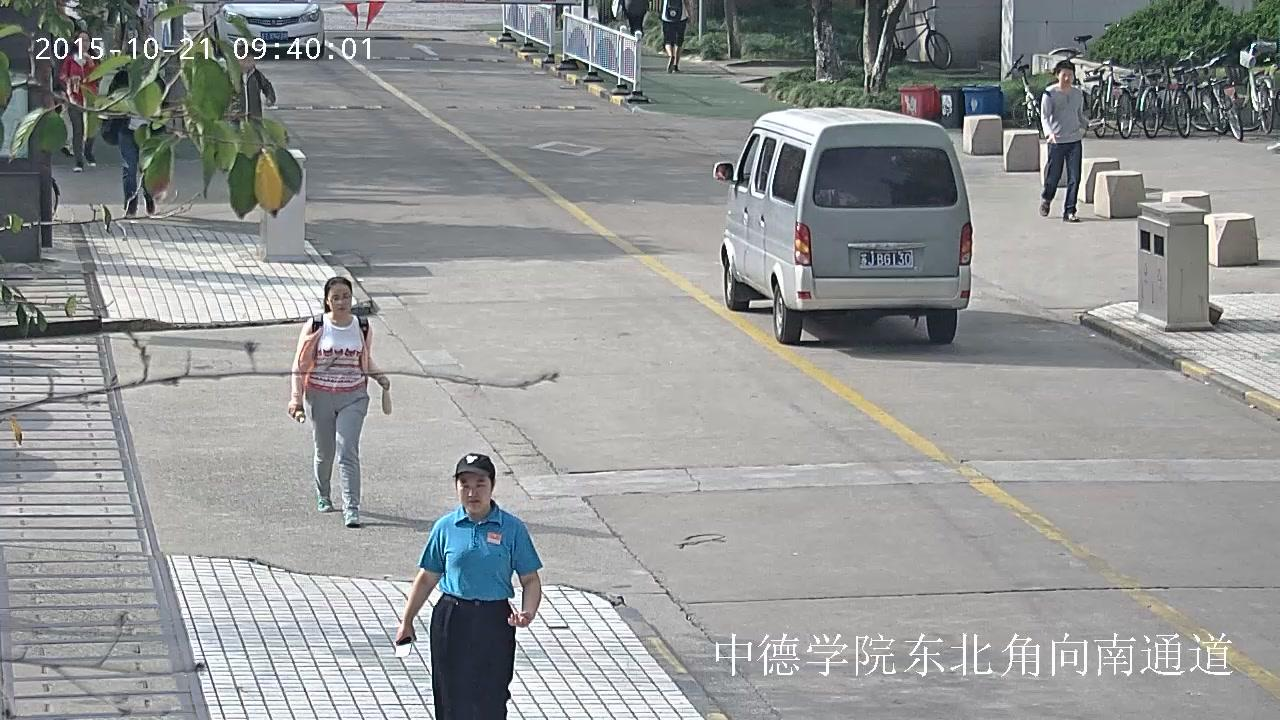person: (396, 453, 543, 720), (288, 277, 391, 527), (100, 45, 166, 219), (1040, 59, 1087, 222), (59, 31, 99, 170), (224, 46, 275, 142), (658, 0, 690, 72)
